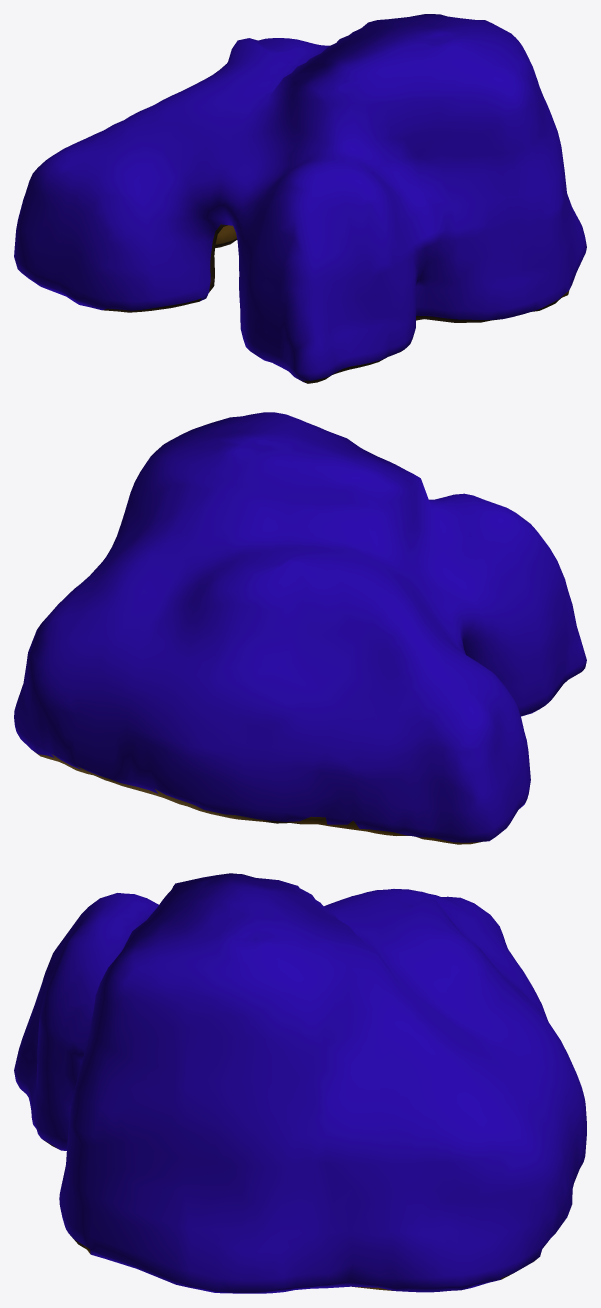
File: Cave_Final_Model.fbx
The picture shows the model from 3 angles, top to bottom: view 1: azimuth 30°, elevation 25°; view 2: azimuth 150°, elevation 25°; view 3: azimuth 270°, elevation 25°; orthographic projection. The views are drawn at different scales.
Parts seen in each view (by area): view 1: Cave; view 2: Cave; view 3: Cave.
Part boxes in pixels (x1,y1,x2,y2): Cave: (14,14,586,383); Cave: (14,412,586,844); Cave: (14,873,586,1293).
Size of the model in its own units: 34028 by 16142 by 29698.
Materials: 2 (1 with a texture image).
